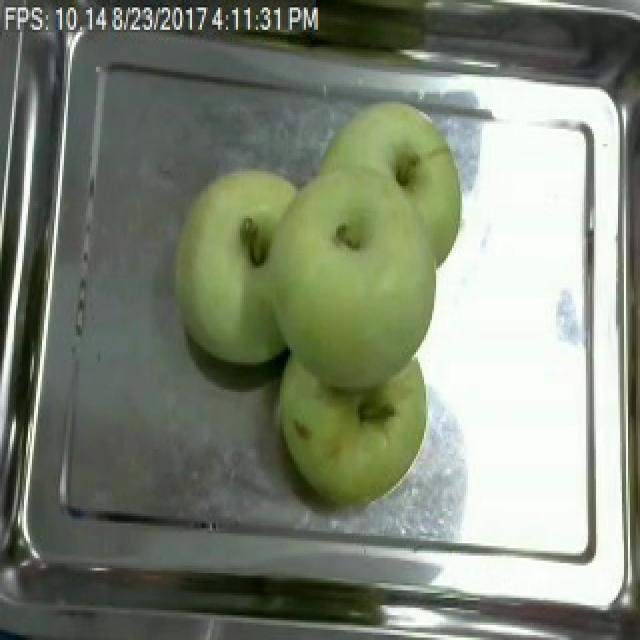50-_ripeness: (274, 163, 451, 391), (314, 90, 490, 262), (170, 140, 303, 363), (279, 341, 444, 506)
